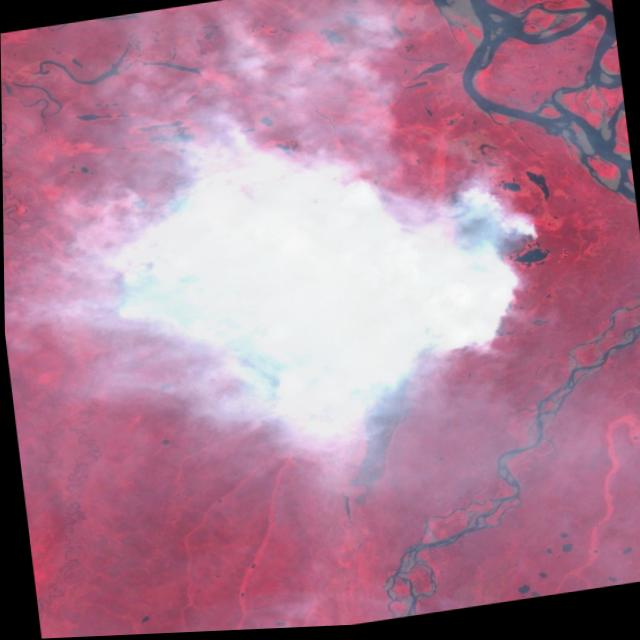fire: (84, 101, 557, 508)
